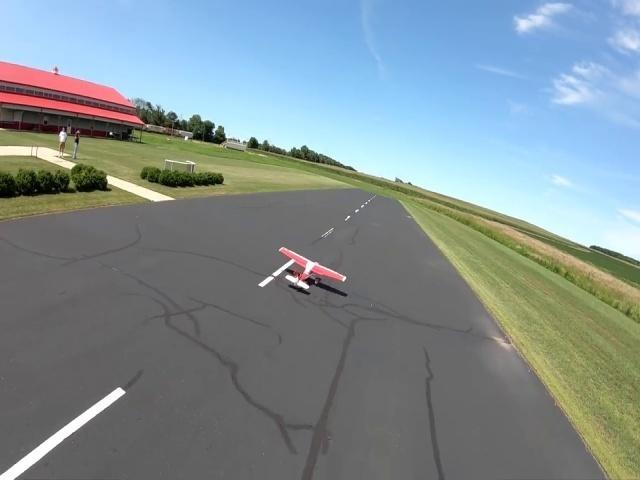Airplane: (279, 246, 347, 293)
